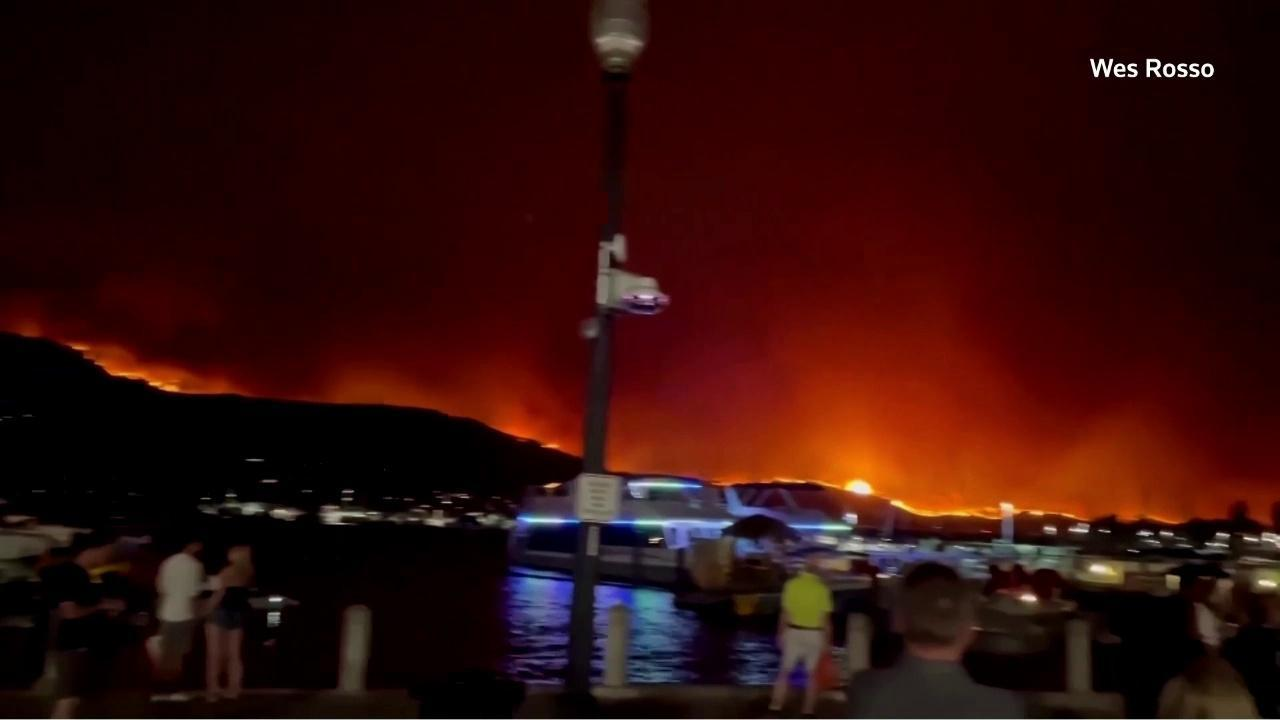fire: (67, 344, 185, 400), (889, 497, 1090, 521), (838, 475, 880, 495), (537, 440, 564, 451)
smoke: (0, 0, 1280, 530)
